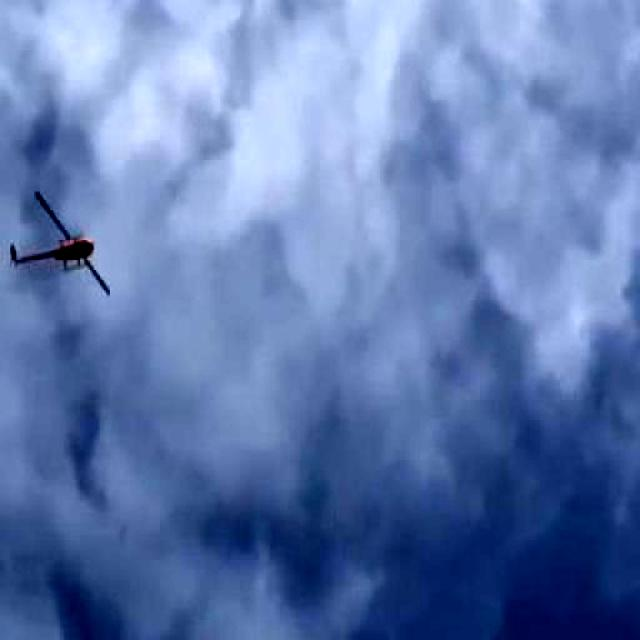drone: (0, 171, 142, 339)
